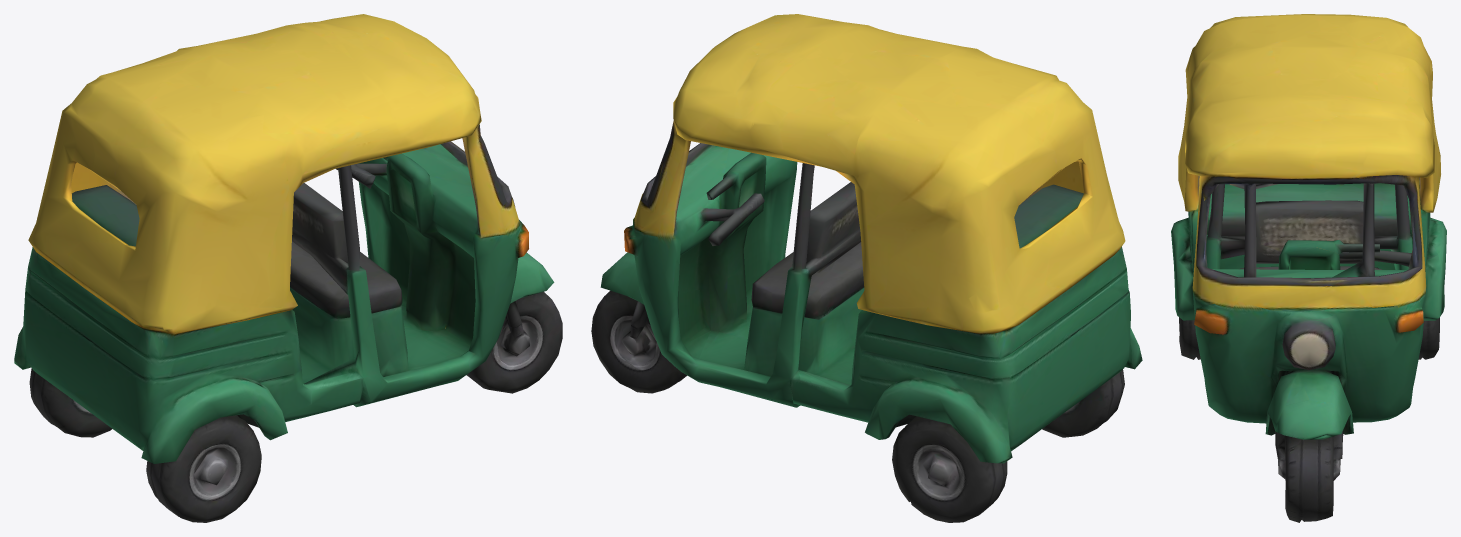
The model's file is street-auto-rickshaw.glb.
3 views of the same model, side by side, from view 1: azimuth 30°, elevation 25°; view 2: azimuth 150°, elevation 25°; view 3: azimuth 270°, elevation 25° (orthographic). The views are drawn at different scales.
Visible parts, largest first — view 1: tripo_node_9bd5b68f-d2df-4401-a472-9c2c400c4b2b; view 2: tripo_node_9bd5b68f-d2df-4401-a472-9c2c400c4b2b; view 3: tripo_node_9bd5b68f-d2df-4401-a472-9c2c400c4b2b.
Part boxes in pixels (bbox=[...]): tripo_node_9bd5b68f-d2df-4401-a472-9c2c400c4b2b: bbox=[14, 14, 562, 522]; tripo_node_9bd5b68f-d2df-4401-a472-9c2c400c4b2b: bbox=[591, 14, 1142, 522]; tripo_node_9bd5b68f-d2df-4401-a472-9c2c400c4b2b: bbox=[1171, 14, 1446, 522].
Bounding box in the file's own units: 1 × 0.765 × 0.5463.
1 material, 1 textured.
